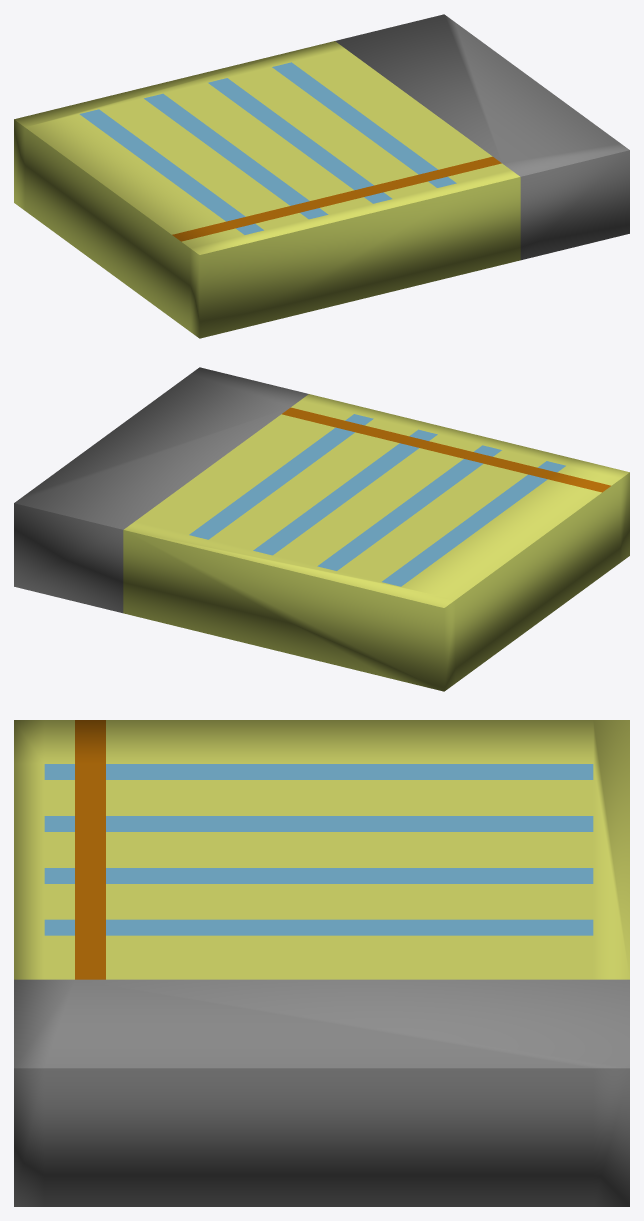
Rendered from NotePad1.fbx.
3 views of the same model, one above another, from view 1: azimuth 30°, elevation 25°; view 2: azimuth 150°, elevation 25°; view 3: azimuth 270°, elevation 25° (orthographic). The views are drawn at different scales.
Visible parts, largest first — view 1: NotePad1; view 2: NotePad1; view 3: NotePad1.
Part boxes in pixels (x1=…): NotePad1: x1=14, y1=14, x2=629, y2=338; NotePad1: x1=14, y1=367, x2=629, y2=691; NotePad1: x1=14, y1=720, x2=629, y2=1206.
Bounding box in the file's own units: 71.97 × 13.35 × 53.78.
